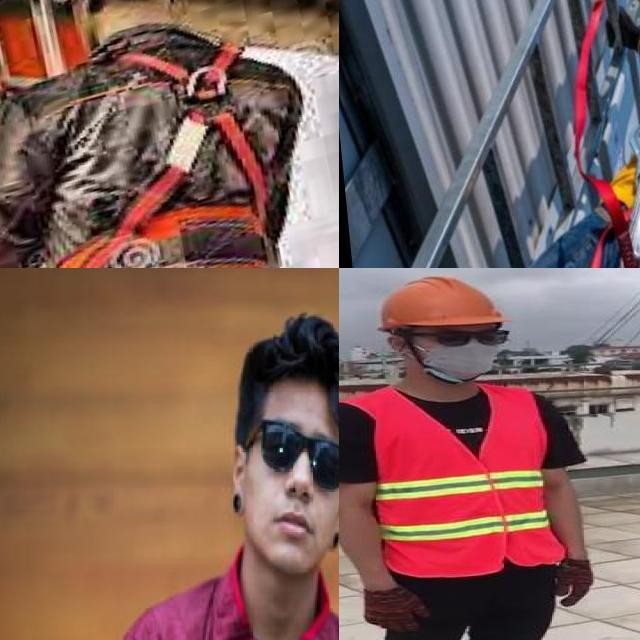Harness: (65, 45, 271, 268), (574, 0, 640, 268)
face_mask: (418, 322, 508, 379)
face_nomask: (257, 418, 339, 547)
glasses: (243, 413, 339, 485), (419, 325, 513, 350)
hand_glove: (364, 587, 431, 634), (557, 556, 593, 608)
head_helmet: (361, 273, 508, 334)
head_nohelmet: (235, 326, 339, 412)
person: (339, 271, 607, 640), (98, 322, 339, 640)
vest: (376, 384, 563, 577)
